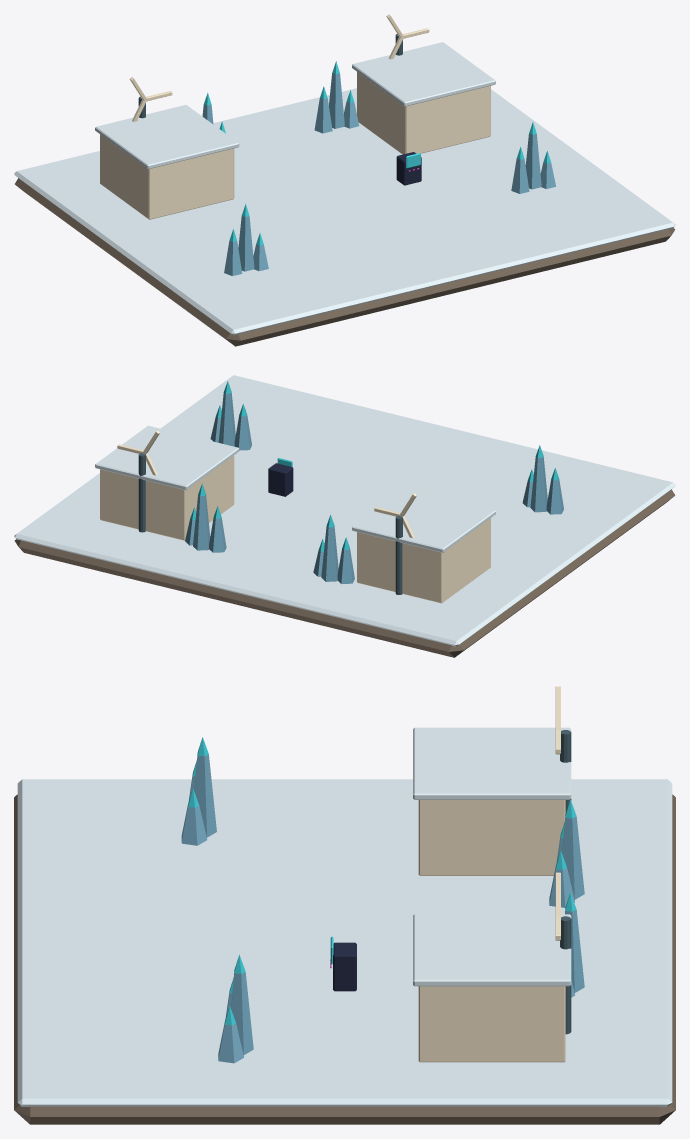
The model's file is world-snow.glb.
3 views of the same model, one above another, from view 1: azimuth 30°, elevation 25°; view 2: azimuth 150°, elevation 25°; view 3: azimuth 270°, elevation 25° (orthographic). The views are drawn at different scales.
Visible parts, largest first — view 1: terrain-top, terrain-stratum, polar-lab, polar-lab.001, snow-roof, snow-roof.001, crystal.004, crystal.007, crystal.013, terminal-base.001; view 2: terrain-top, terrain-stratum, polar-lab, polar-lab.001, snow-roof, snow-roof.001, terminal-base.001, crystal.010, crystal.013, crystal.004, crystal.007, mast.002 (+5 smaller); view 3: terrain-top, terrain-stratum, polar-lab.001, snow-roof.001, snow-roof, polar-lab, crystal.004, crystal.010, crystal.007, terminal-base.001, crystal.013, crystal.008 (+2 smaller).
Boxes of the visible parts, x1=… form: terrain-top: x1=14, y1=88, x2=675, y2=335; terrain-stratum: x1=14, y1=178, x2=675, y2=346; polar-lab: x1=100, y1=134, x2=234, y2=219; polar-lab.001: x1=357, y1=72, x2=490, y2=154; snow-roof: x1=95, y1=105, x2=239, y2=169; snow-roof.001: x1=352, y1=42, x2=495, y2=106; crystal.004: x1=238, y1=216, x2=254, y2=271; crystal.007: x1=525, y1=133, x2=541, y2=189; crystal.013: x1=329, y1=73, x2=344, y2=128; terminal-base.001: x1=396, y1=152, x2=421, y2=185; terrain-top: x1=14, y1=375, x2=675, y2=646; terrain-stratum: x1=14, y1=489, x2=675, y2=657; polar-lab: x1=357, y1=518, x2=490, y2=603; polar-lab.001: x1=100, y1=455, x2=234, y2=540; snow-roof: x1=352, y1=488, x2=495, y2=552; snow-roof.001: x1=95, y1=425, x2=239, y2=489; terminal-base.001: x1=268, y1=463, x2=293, y2=496; crystal.010: x1=321, y1=525, x2=338, y2=581; crystal.013: x1=193, y1=494, x2=210, y2=550; crystal.004: x1=530, y1=456, x2=547, y2=512; crystal.007: x1=218, y1=392, x2=235, y2=446; mast.002: x1=138, y1=453, x2=145, y2=532; terrain-top: x1=17, y1=779, x2=672, y2=1106; terrain-stratum: x1=14, y1=794, x2=675, y2=1124; polar-lab.001: x1=418, y1=986, x2=565, y2=1062; snow-roof.001: x1=413, y1=914, x2=571, y2=986; snow-roof: x1=413, y1=727, x2=571, y2=799; polar-lab: x1=418, y1=800, x2=565, y2=875; crystal.004: x1=194, y1=754, x2=216, y2=837; crystal.010: x1=562, y1=816, x2=584, y2=899; crystal.007: x1=231, y1=972, x2=253, y2=1054; terminal-base.001: x1=333, y1=942, x2=356, y2=991; crystal.013: x1=565, y1=909, x2=584, y2=992; crystal.008: x1=218, y1=1022, x2=243, y2=1063.
Bounding box in the file's own units: 21 × 5.4 × 18.
